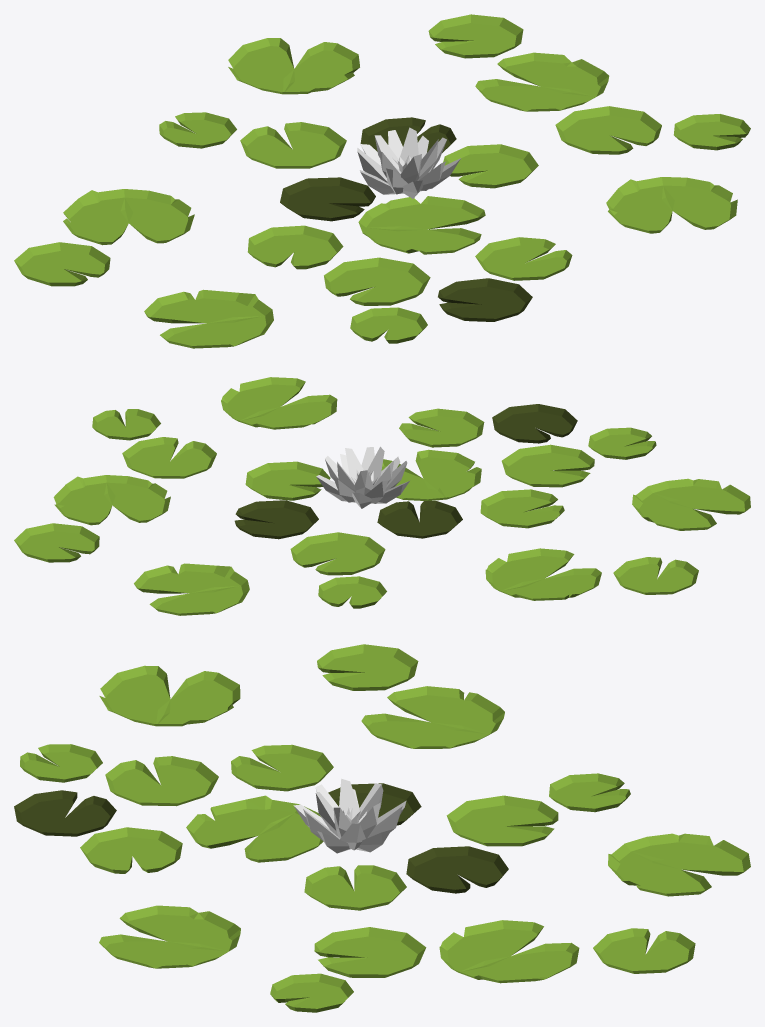
The model's file is SM_Waterlily_Group_C.fbx.
The picture shows the model from 3 angles, top to bottom: view 1: azimuth 30°, elevation 25°; view 2: azimuth 150°, elevation 25°; view 3: azimuth 270°, elevation 25°; orthographic projection. The views are drawn at different scales.
Visible parts, largest first — view 1: waterlily-group-c; view 2: waterlily-group-c; view 3: waterlily-group-c.
Part boxes in pixels (x1=…): waterlily-group-c: x1=14, y1=14, x2=750, y2=348; waterlily-group-c: x1=14, y1=377, x2=750, y2=615; waterlily-group-c: x1=14, y1=644, x2=750, y2=1012.
Size of the model in its own units: 2.12 by 0.151 by 1.81.
